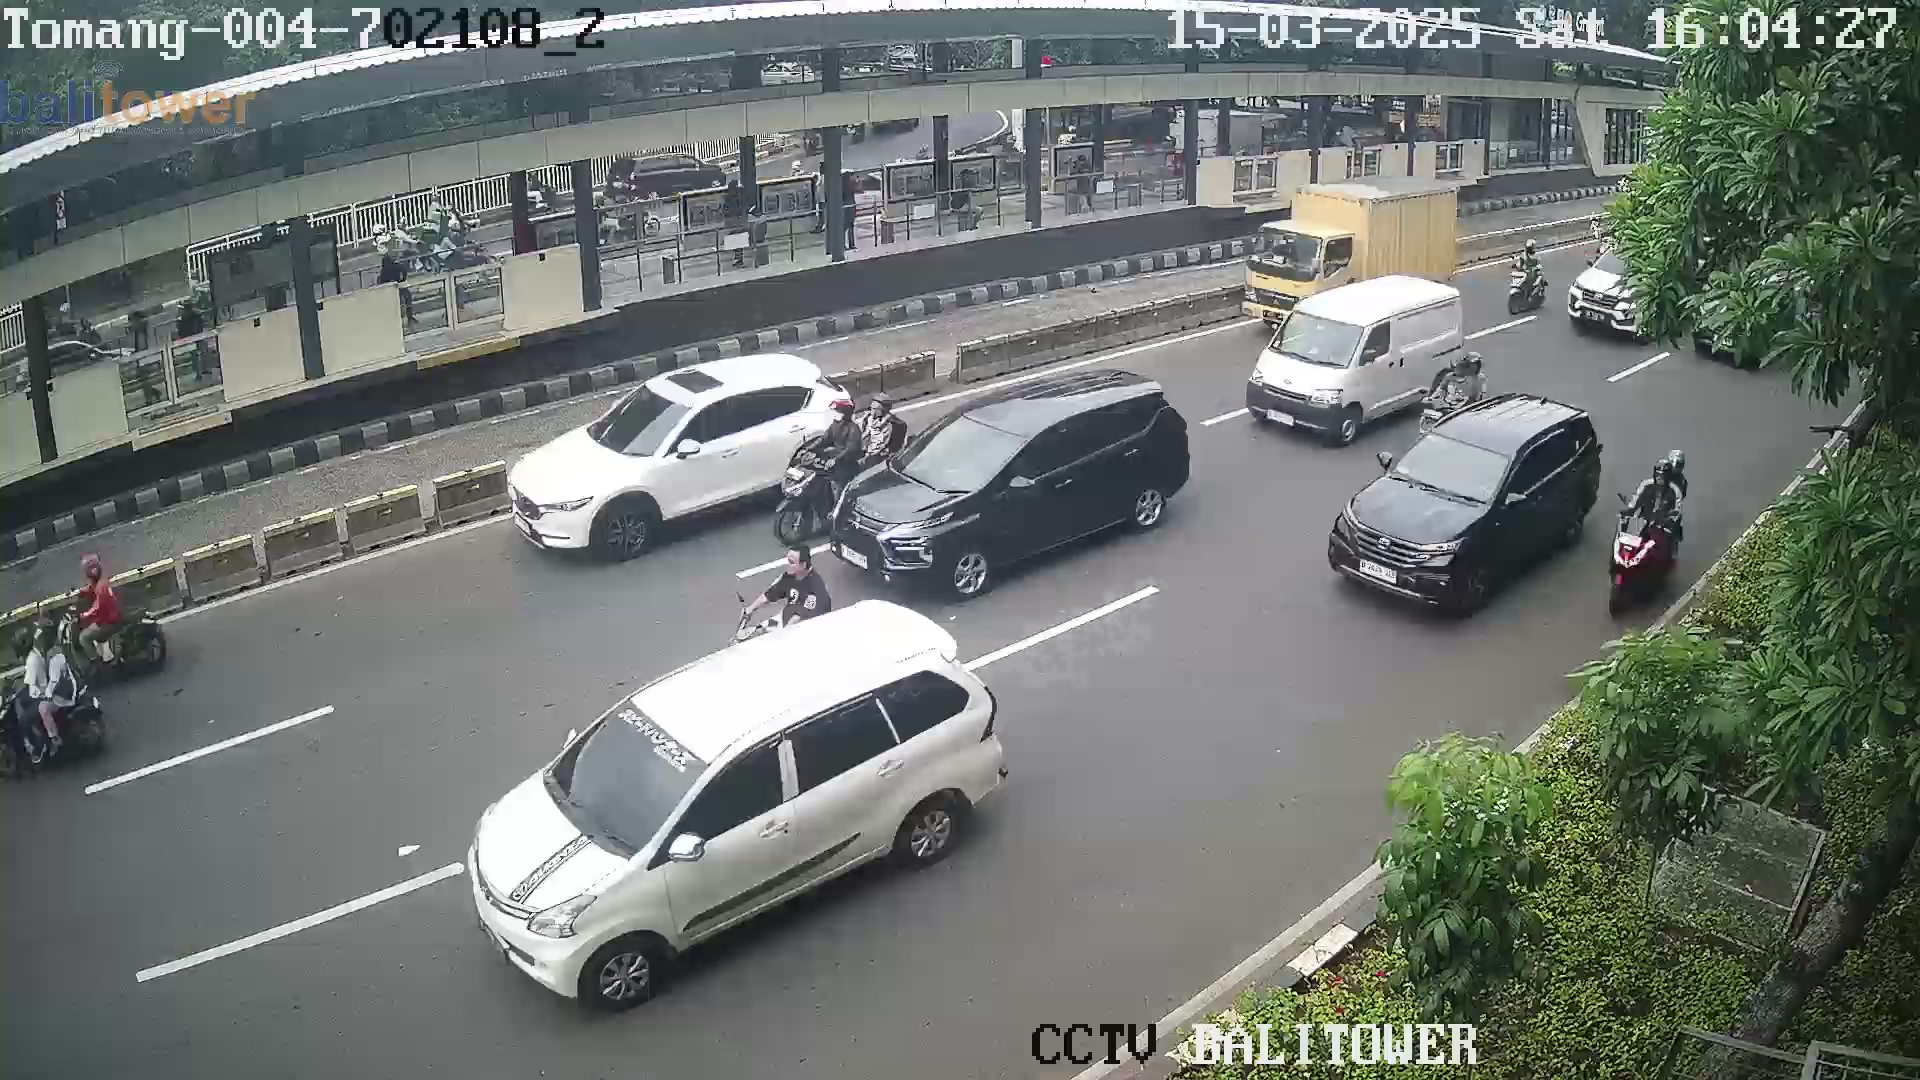half-face helmet: (1445, 343, 1476, 384), (72, 553, 121, 578), (14, 620, 35, 661), (33, 626, 72, 647), (1653, 455, 1676, 492), (823, 396, 857, 420), (868, 390, 888, 422)
no helmet: (778, 543, 815, 586)
